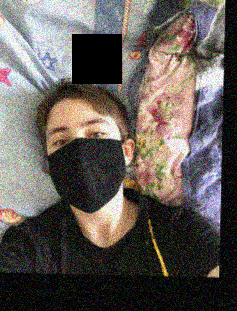with_mask: (45, 109, 126, 214)
